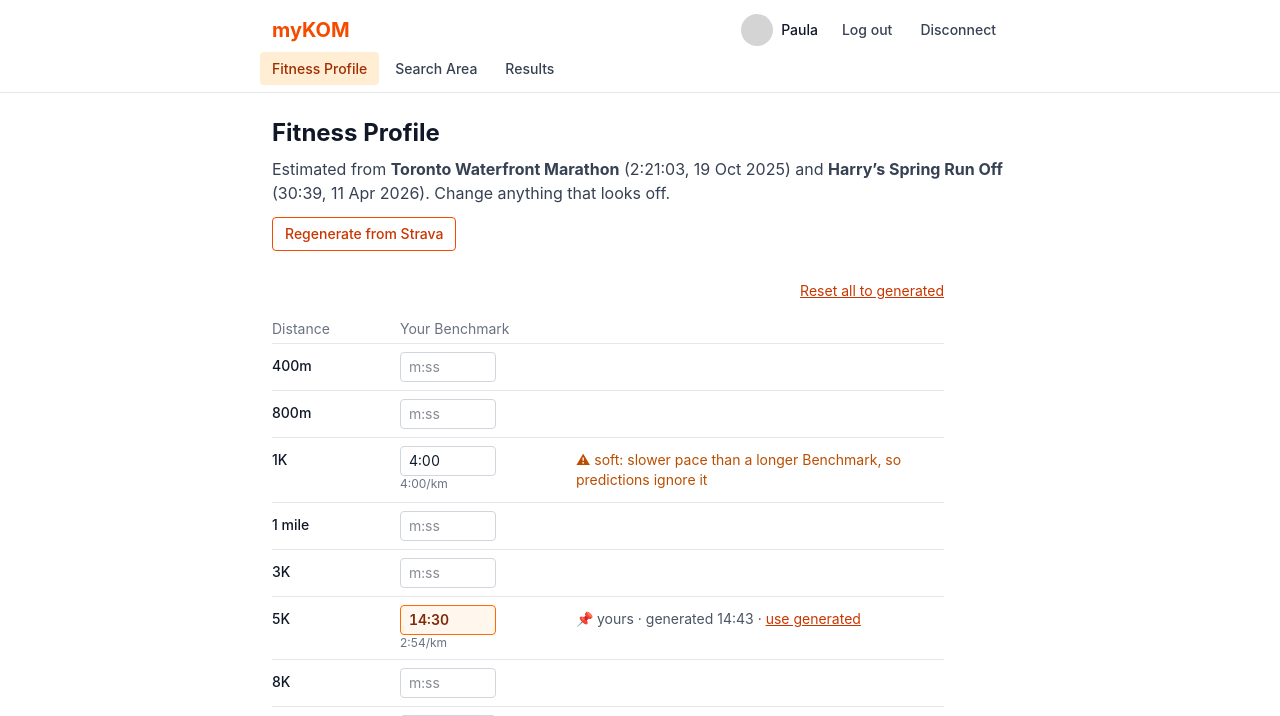
Fitness Profile › updates all Benchmarks from the row just edited
Replace the text in the field labelled "5K" with "16:00" at (448, 620), box [400, 605, 496, 635]
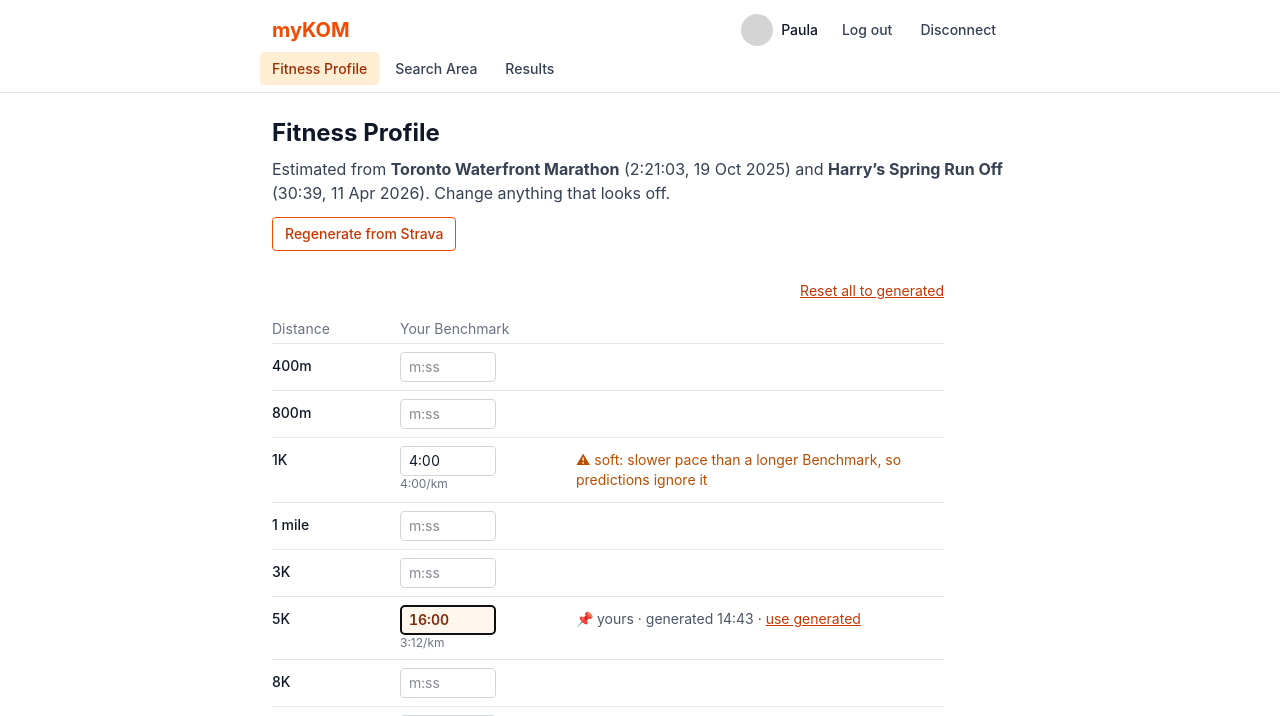
Press Tab
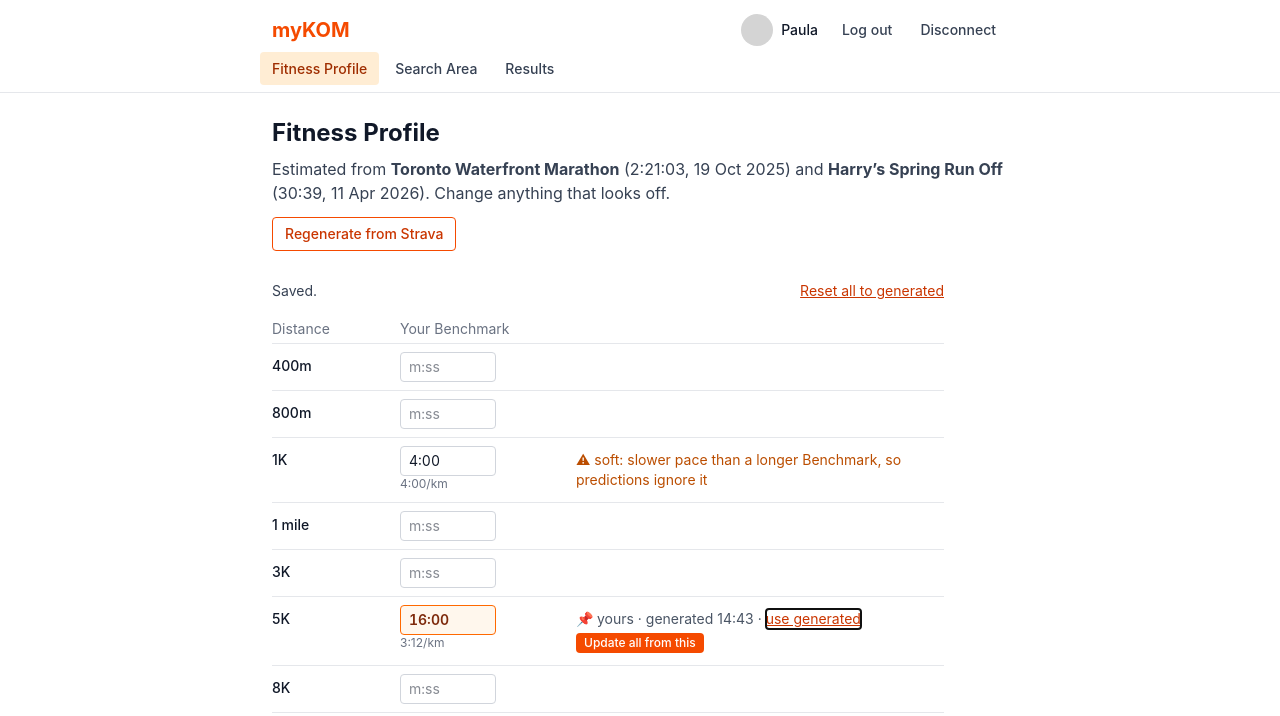
Click the button "Update all from this" at (640, 643), box [576, 633, 704, 653]
(page scrolled)
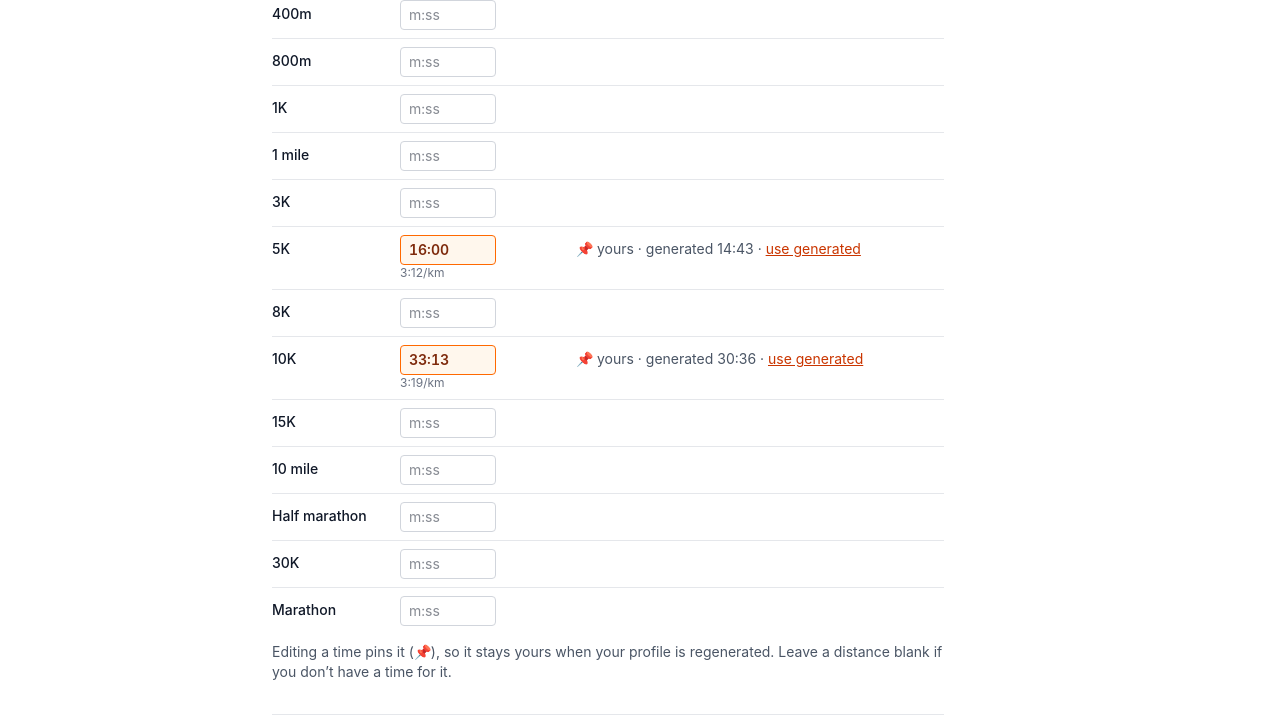
Result: the field labelled "10K" holds "33:13" at [400, 345, 496, 375]
Result: the button "Update all from this" is gone
